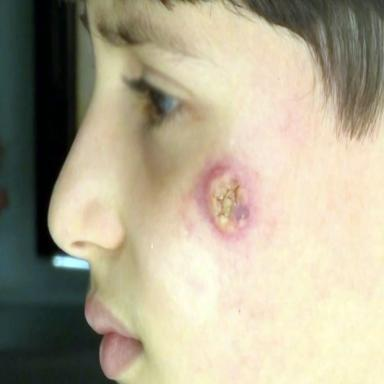Leishmanios: (199, 160, 257, 241)
